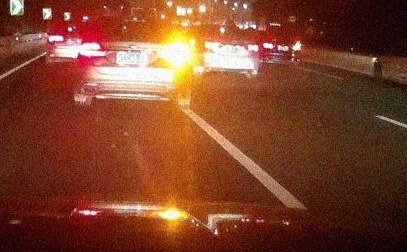L_light: (79, 43, 107, 57)
R_light: (158, 45, 189, 61)
T_light: (127, 21, 142, 25)
night-right: (76, 18, 191, 111)
